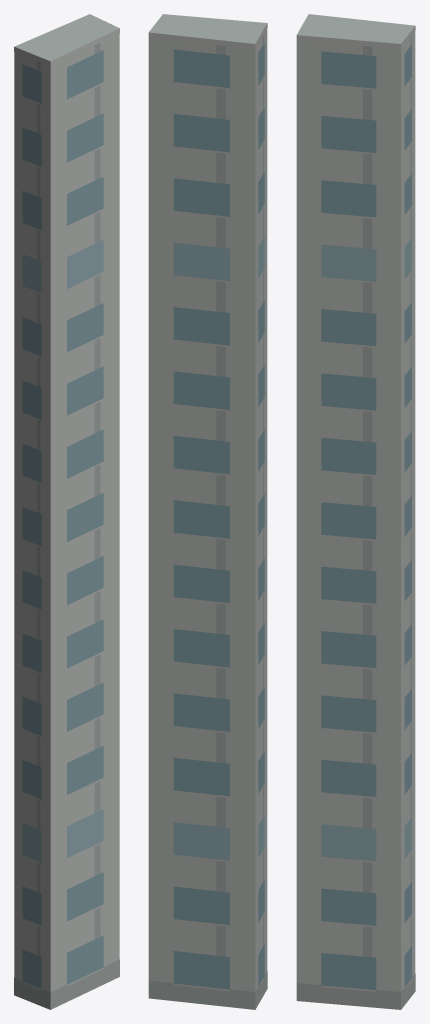
The model's file is survey-upis-32632167.glb.
3 renders of one model, left to right at view 1: azimuth 30°, elevation 25°; view 2: azimuth 150°, elevation 25°; view 3: azimuth 330°, elevation 25°, orthographic.
Parts seen in each view (by area): view 1: survey-upis-32632167.tmp; view 2: survey-upis-32632167.tmp; view 3: survey-upis-32632167.tmp.
Part boxes in pixels (x1,y1,x2,y2): survey-upis-32632167.tmp: (14,14,119,1009); survey-upis-32632167.tmp: (148,14,267,1009); survey-upis-32632167.tmp: (296,14,415,1009).
Bounding box in the file's own units: 4.97 × 45.75 × 3.39.
